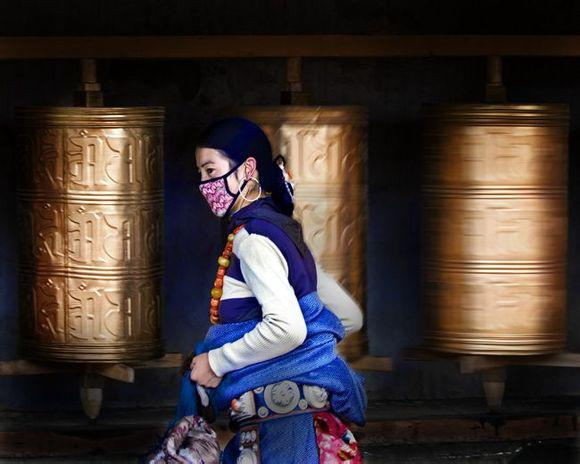OK: (199, 163, 250, 214)
